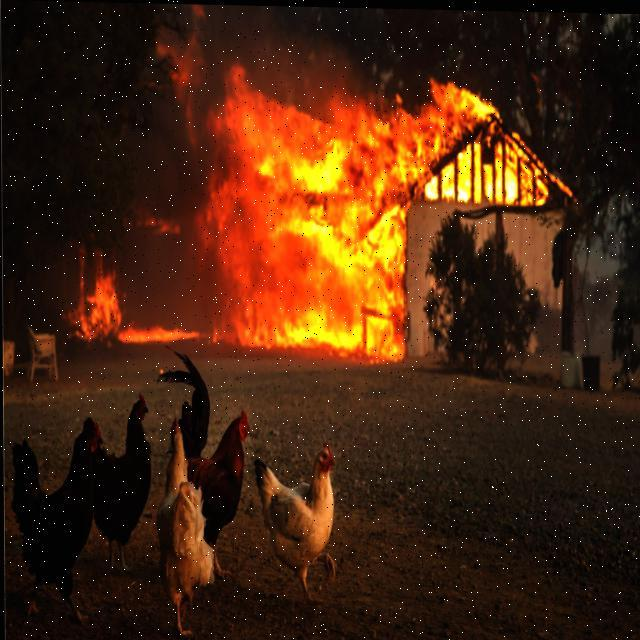Fire: (204, 28, 588, 368), (64, 247, 204, 352)
